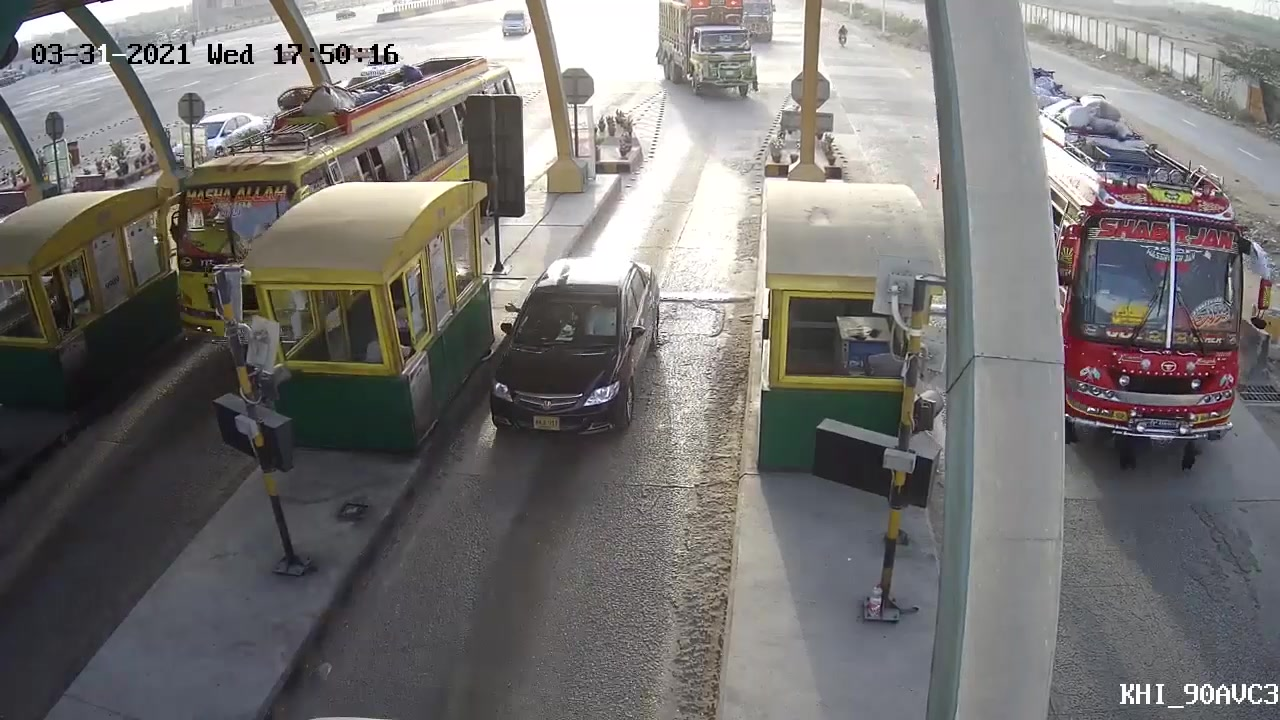F1: (481, 256, 660, 448)
